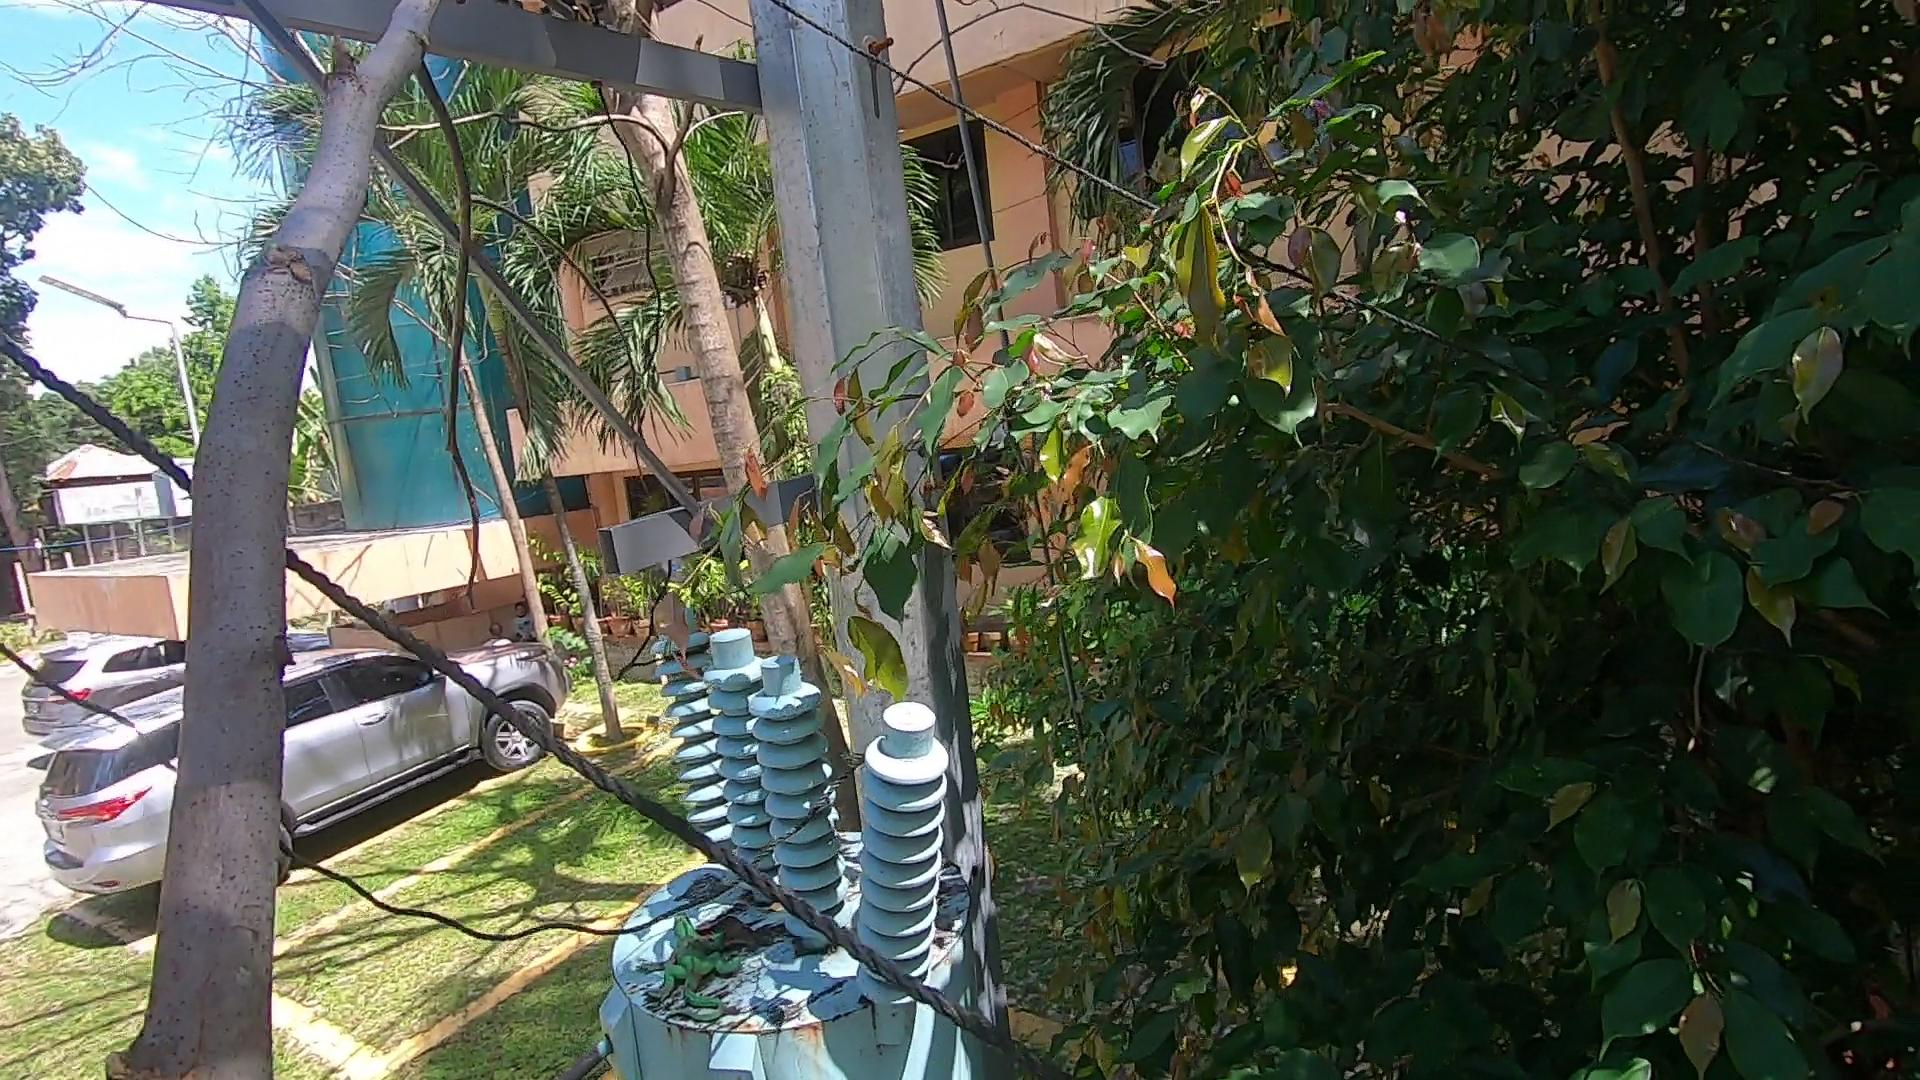branch with leaves: (679, 380, 945, 728)
leaf: (680, 895, 791, 965)
tree branch: (181, 3, 469, 1080)
